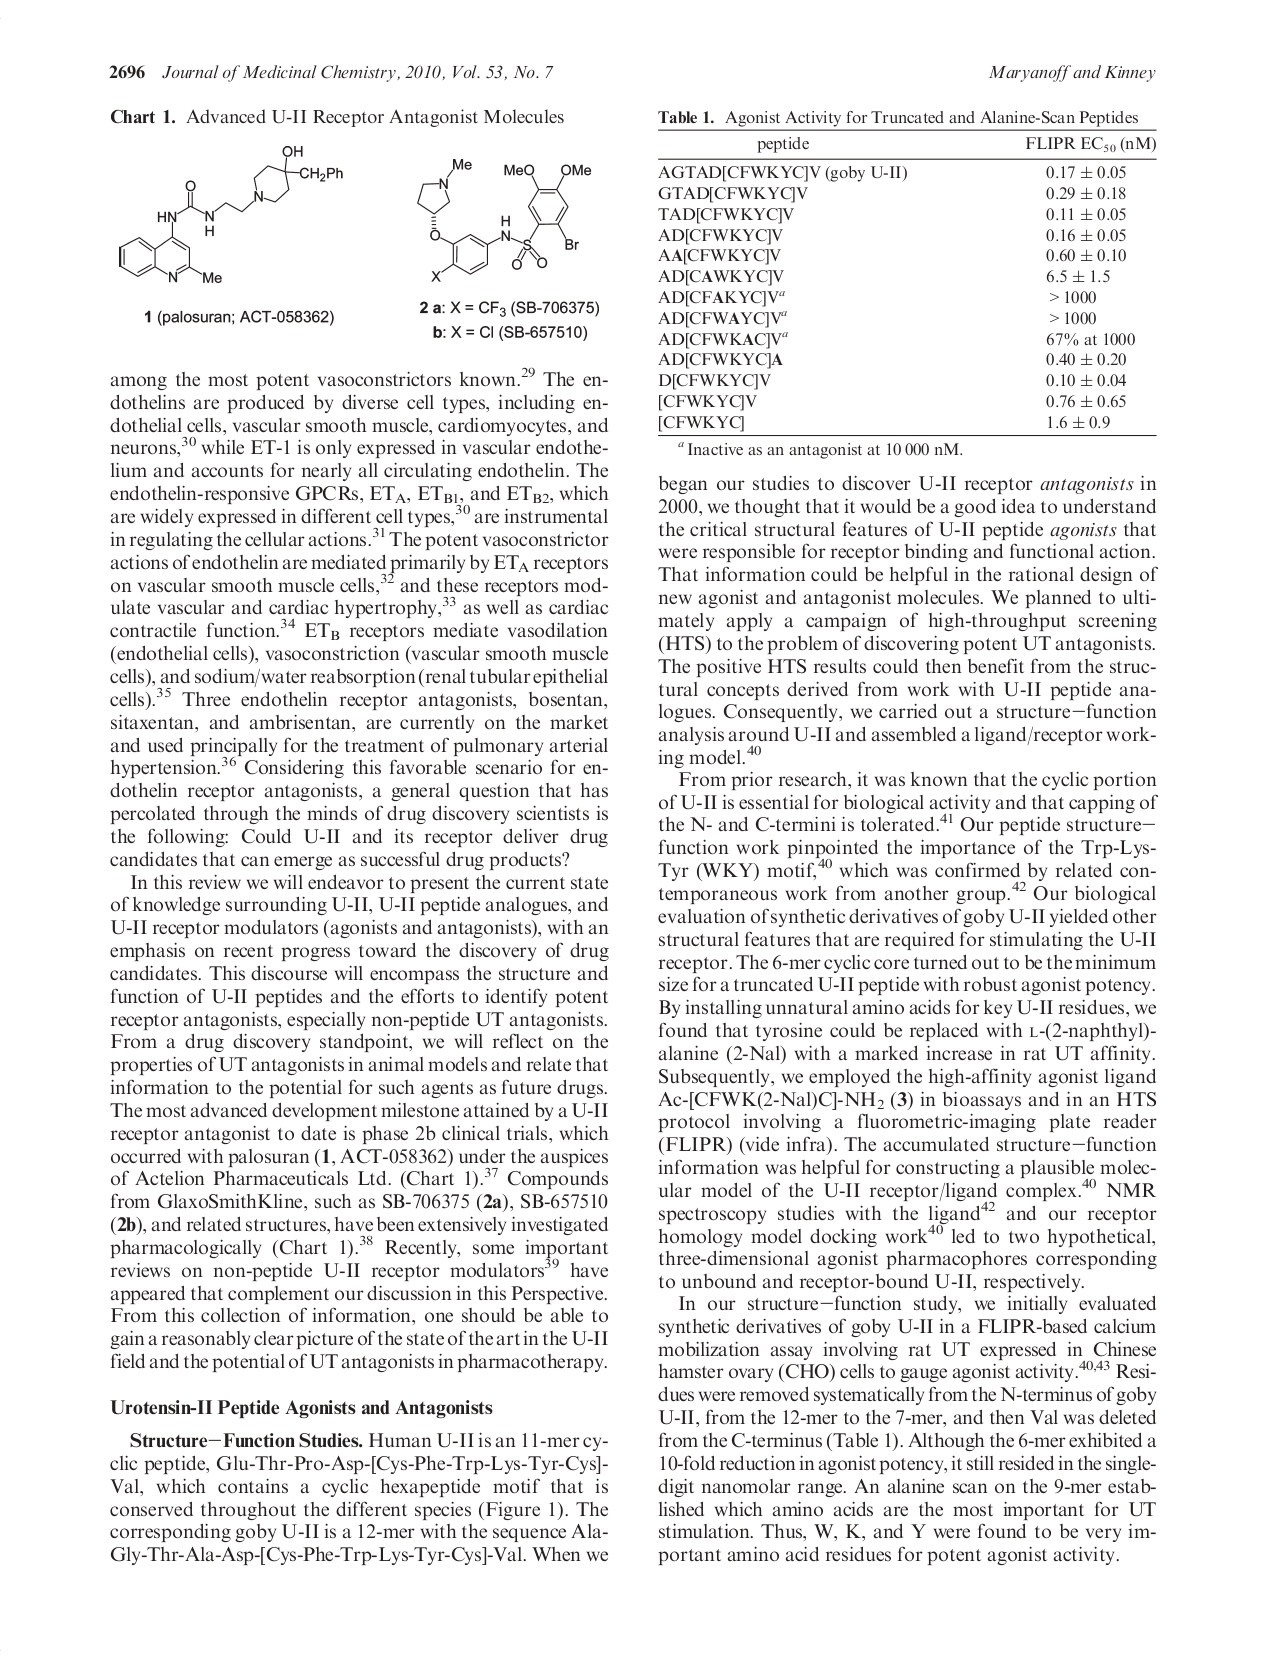exist_molecular: (116, 142, 347, 285), (418, 157, 593, 282)
